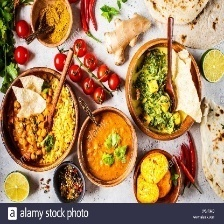dal: (78, 109, 137, 185)
